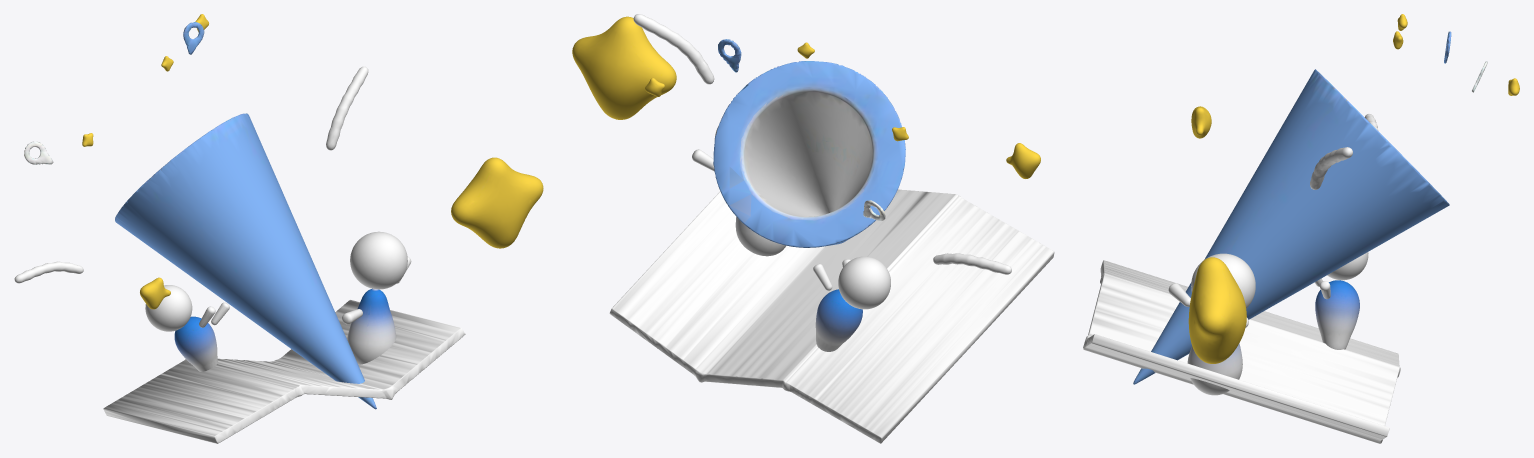
Rendered from cracker.glb.
The picture shows the model from 3 angles, left to right: view 1: azimuth 30°, elevation 25°; view 2: azimuth 150°, elevation 25°; view 3: azimuth 270°, elevation 25°; orthographic projection. The views are drawn at different scales.
Visible parts, largest first — view 1: 26_09_28_08_29_40_138_0; view 2: 26_09_28_08_29_40_138_0; view 3: 26_09_28_08_29_40_138_0.
Part boxes in pixels (x1,y1,x2,y2): 26_09_28_08_29_40_138_0: (14, 14, 543, 443); 26_09_28_08_29_40_138_0: (572, 14, 1054, 443); 26_09_28_08_29_40_138_0: (1083, 14, 1519, 443).
Bounding box in the file's own units: 1 × 0.7294 × 0.7398.
12 materials, 12 textured.
